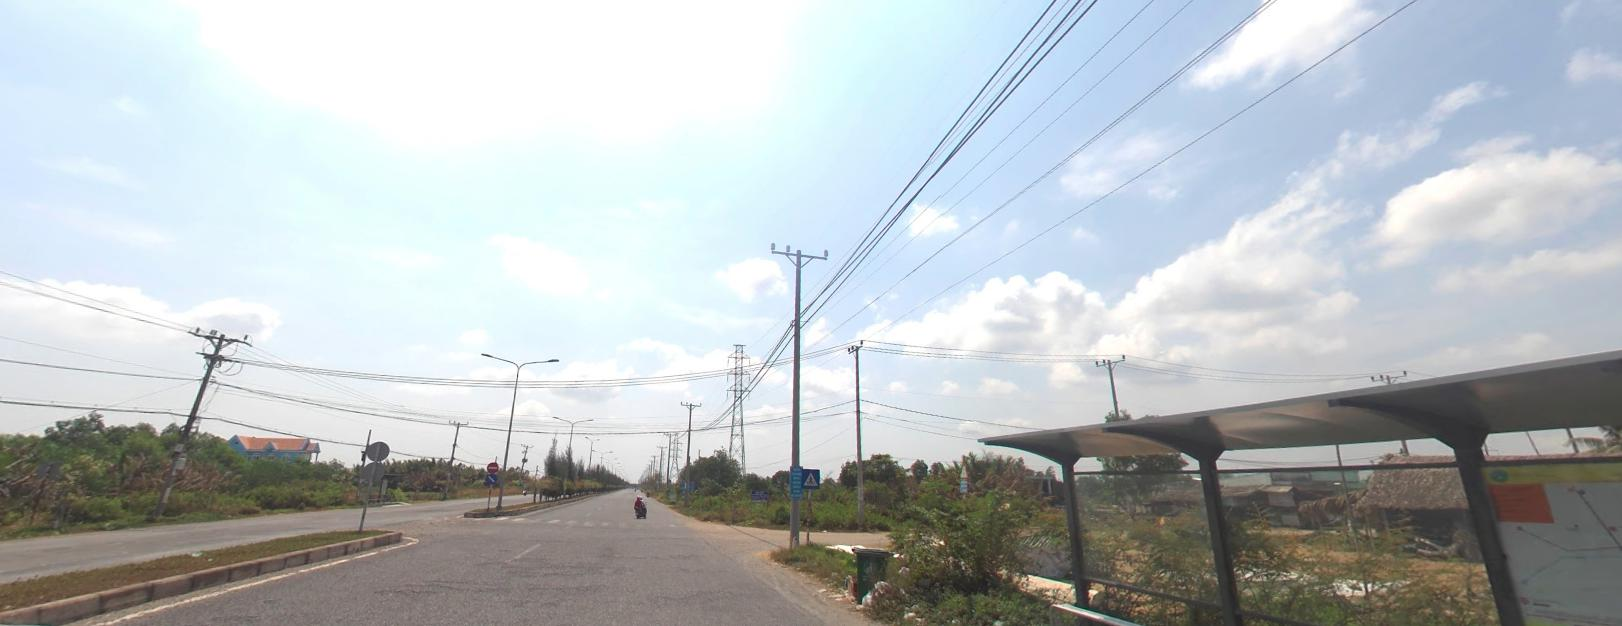Cam nguoc chieu: (487, 461, 499, 471), (486, 461, 497, 471)
Hieu lenh: (485, 472, 497, 483), (486, 473, 497, 483)
